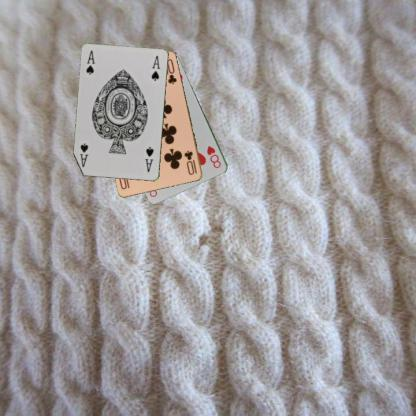10c: (182, 148, 198, 176)
8h: (204, 143, 223, 170)
As: (143, 144, 155, 173), (84, 48, 96, 76)
